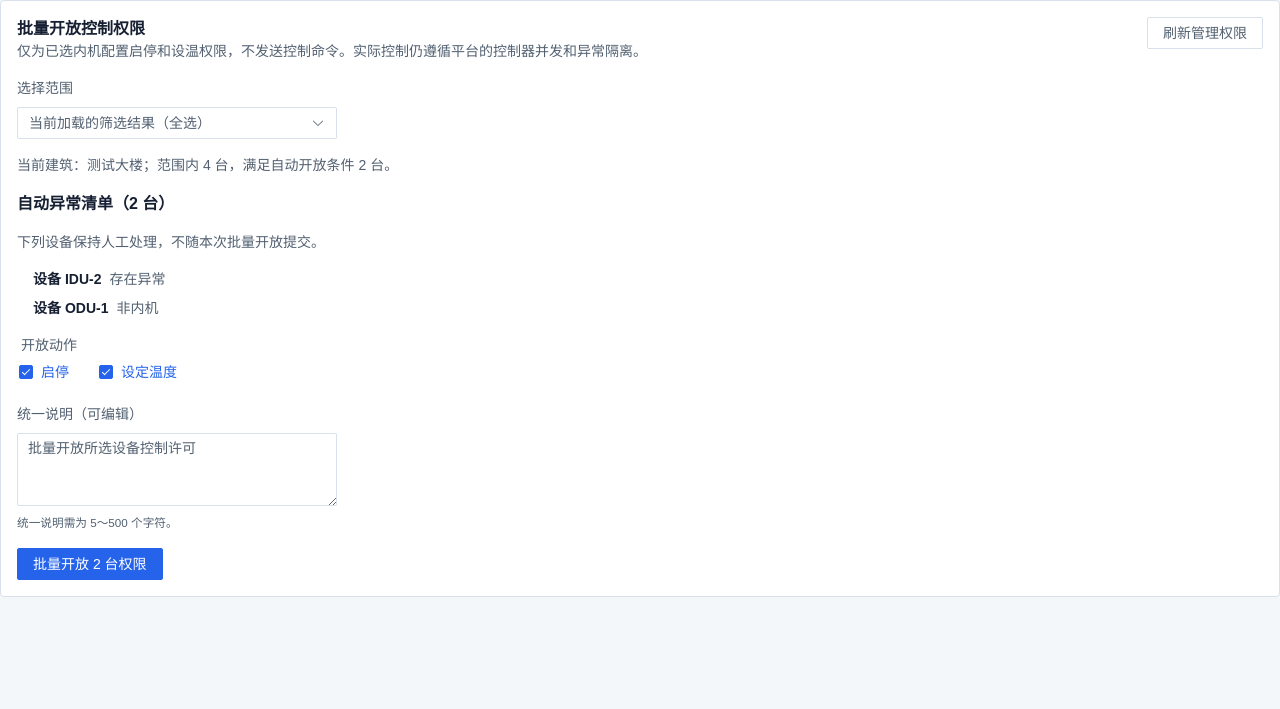
Test: 批量设备控制权限入口 › 管理员一次提交统一说明，自动排除异常和非内机，且只配置权限不发控制命令
Expected: the text box labelled "统一说明（可编辑） 统一说明需为 5～500 个字符。" holds "批量开放所选设备控制许可", [17, 433, 337, 506]
Click the button with test id "submit-device-grants". click: (90, 564)
box: [17, 548, 163, 580]
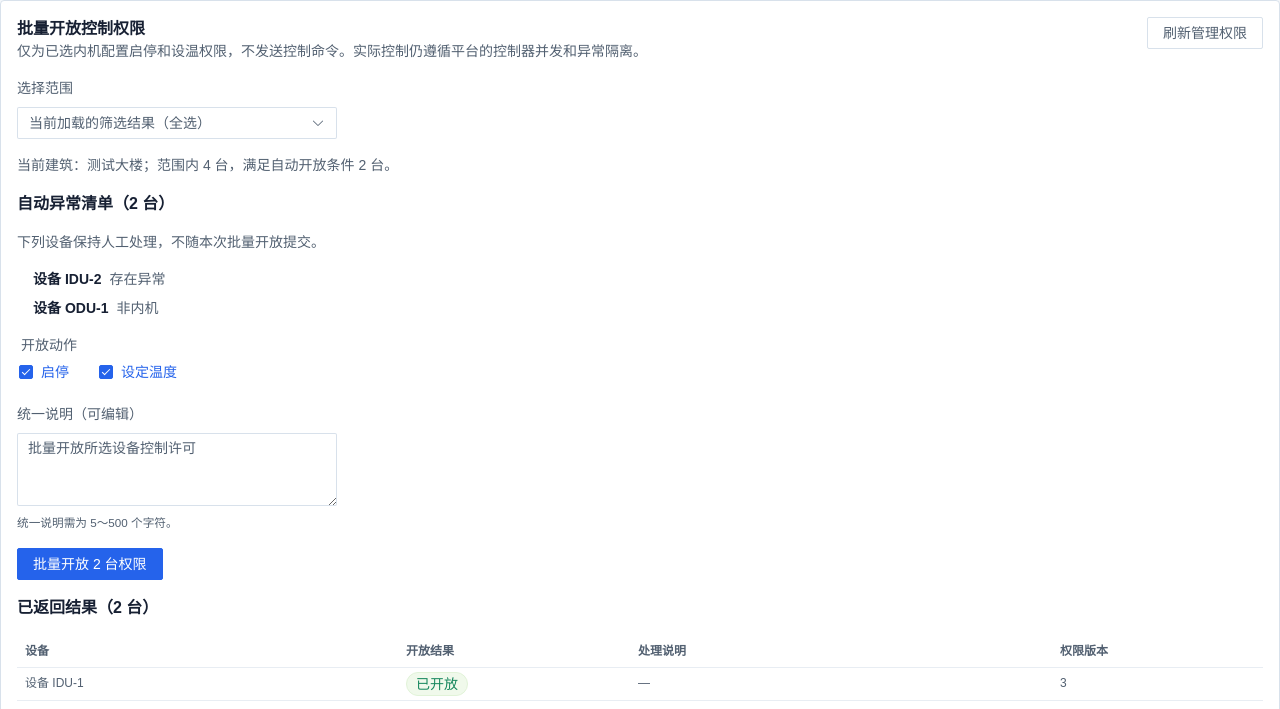
Expected: the text "已开放" is shown, [416, 676, 458, 690]
